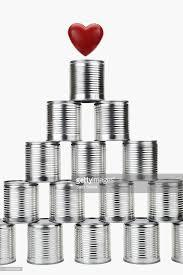Tin: (3, 57, 183, 270)
